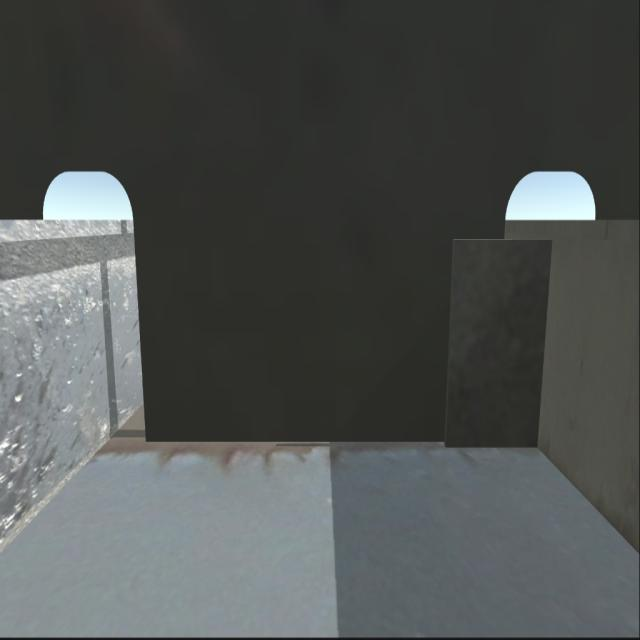fillet_yong_jeop_jang: (141, 431, 544, 451)
longi_yong_jeop_jang: (522, 244, 560, 450)
plate_CP01: (441, 236, 556, 452)
